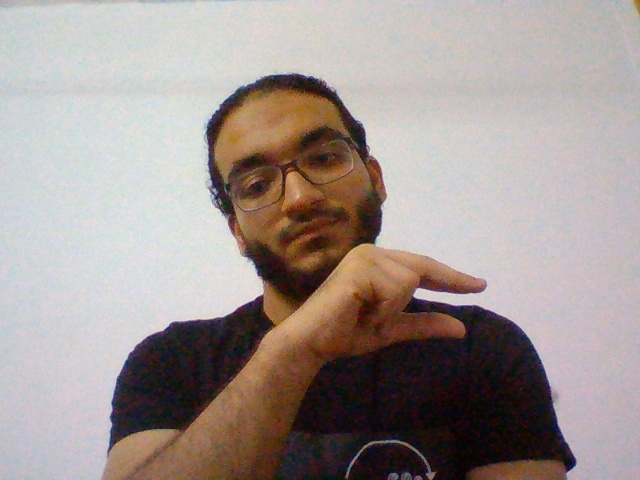No: (303, 242, 488, 370)
